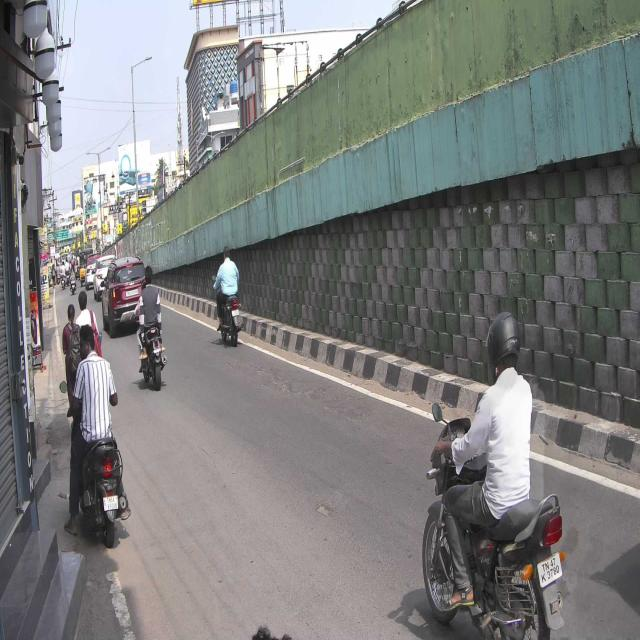single_rider: (421, 312, 568, 640)
